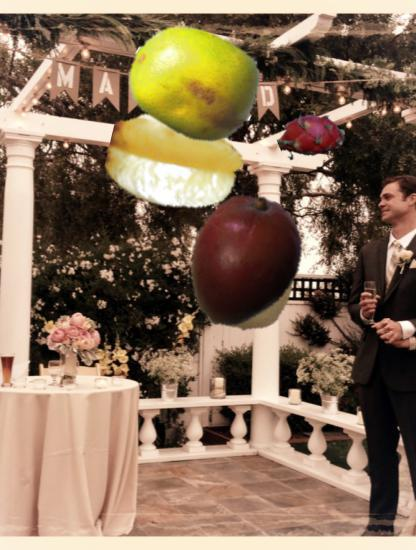Carambula: (107, 94, 243, 230)
Kiwi: (195, 220, 309, 334)
Mango: (174, 193, 312, 331)
Pitahaya: (277, 101, 343, 167)
Pomelo: (129, 16, 261, 148)
